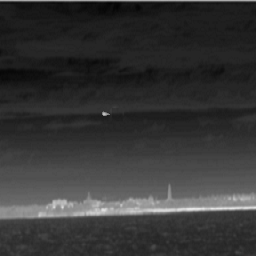Target: (100, 111, 110, 116)
